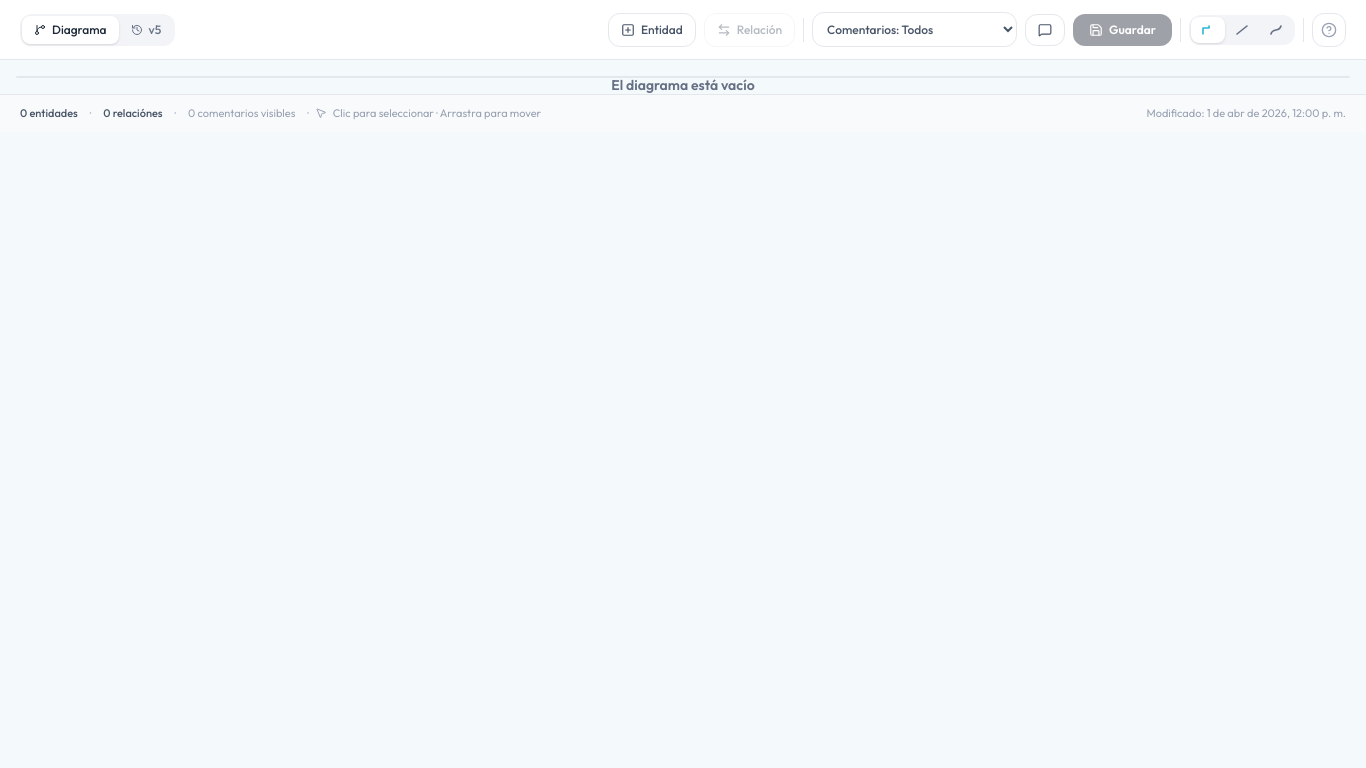
it: Conceptual editor flow › opens preview modal from version history and supports v-prefixed version numbers
Click the button "v5". click: (146, 30)
box: [118,16,173,44]
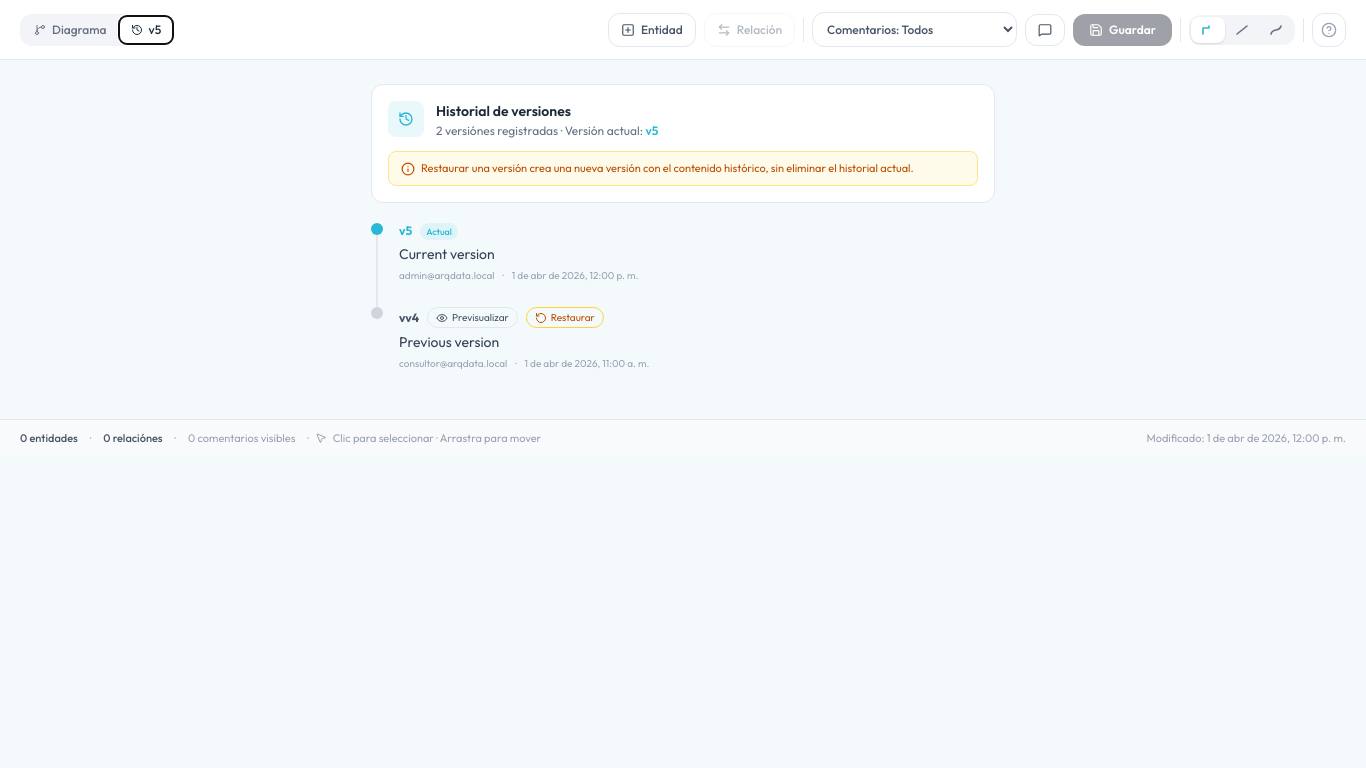
Click the button "Previsualizar". click: (472, 318)
box: [427,307,518,328]
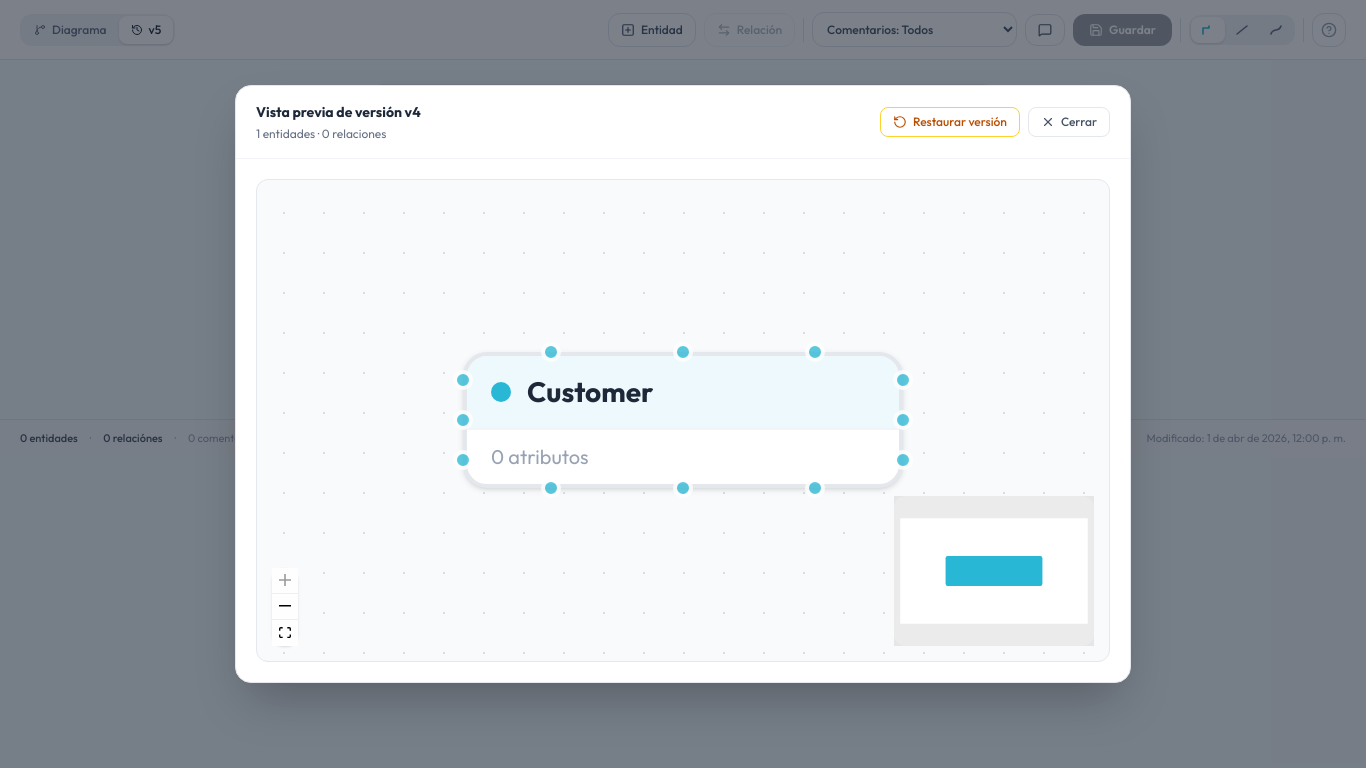
Now the heading "Vista previa de versión v4" is shown, box [256,102,421,122]
